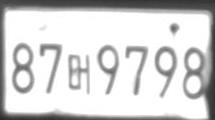7: (124, 45, 148, 96), (39, 43, 62, 93)
8: (182, 46, 205, 100), (11, 42, 35, 93)
9: (154, 45, 177, 98), (97, 44, 119, 94)
머: (68, 54, 89, 92)
